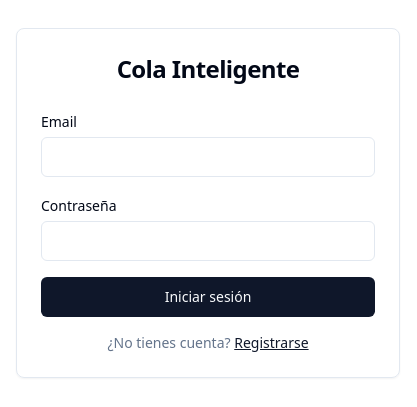
it: LoginPage — validación Zod › muestra error si la contraseña está vacía
In the field labelled "Email": (208, 157) [41, 137, 375, 177], type "test@test.com"
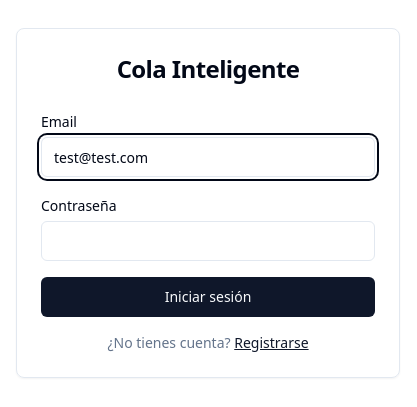
Click the button "Iniciar sesión": (208, 297) [41, 277, 375, 317]
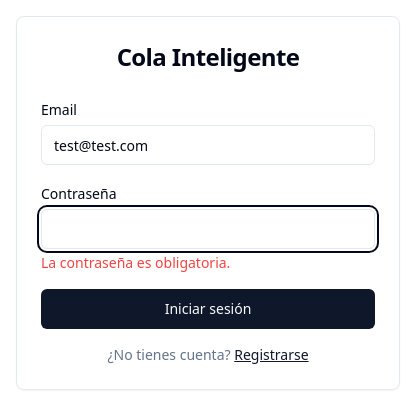
Expected: the text "La contraseña es obligatoria." is shown, [41, 253, 230, 272]
